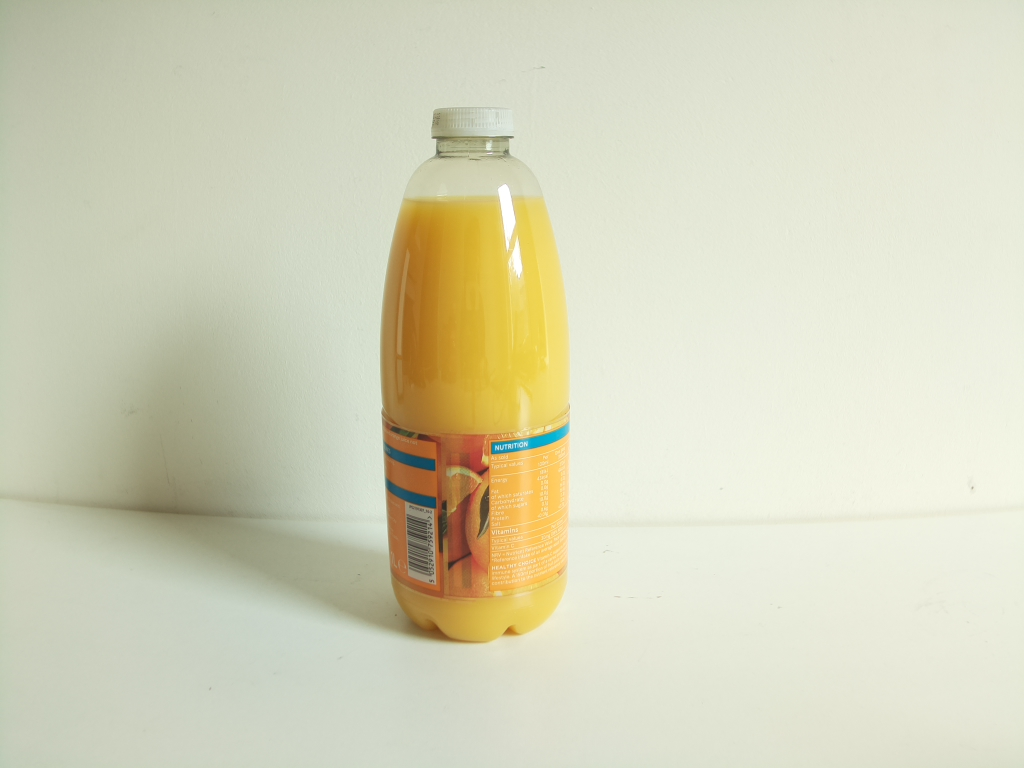juice: (380, 101, 580, 647)
